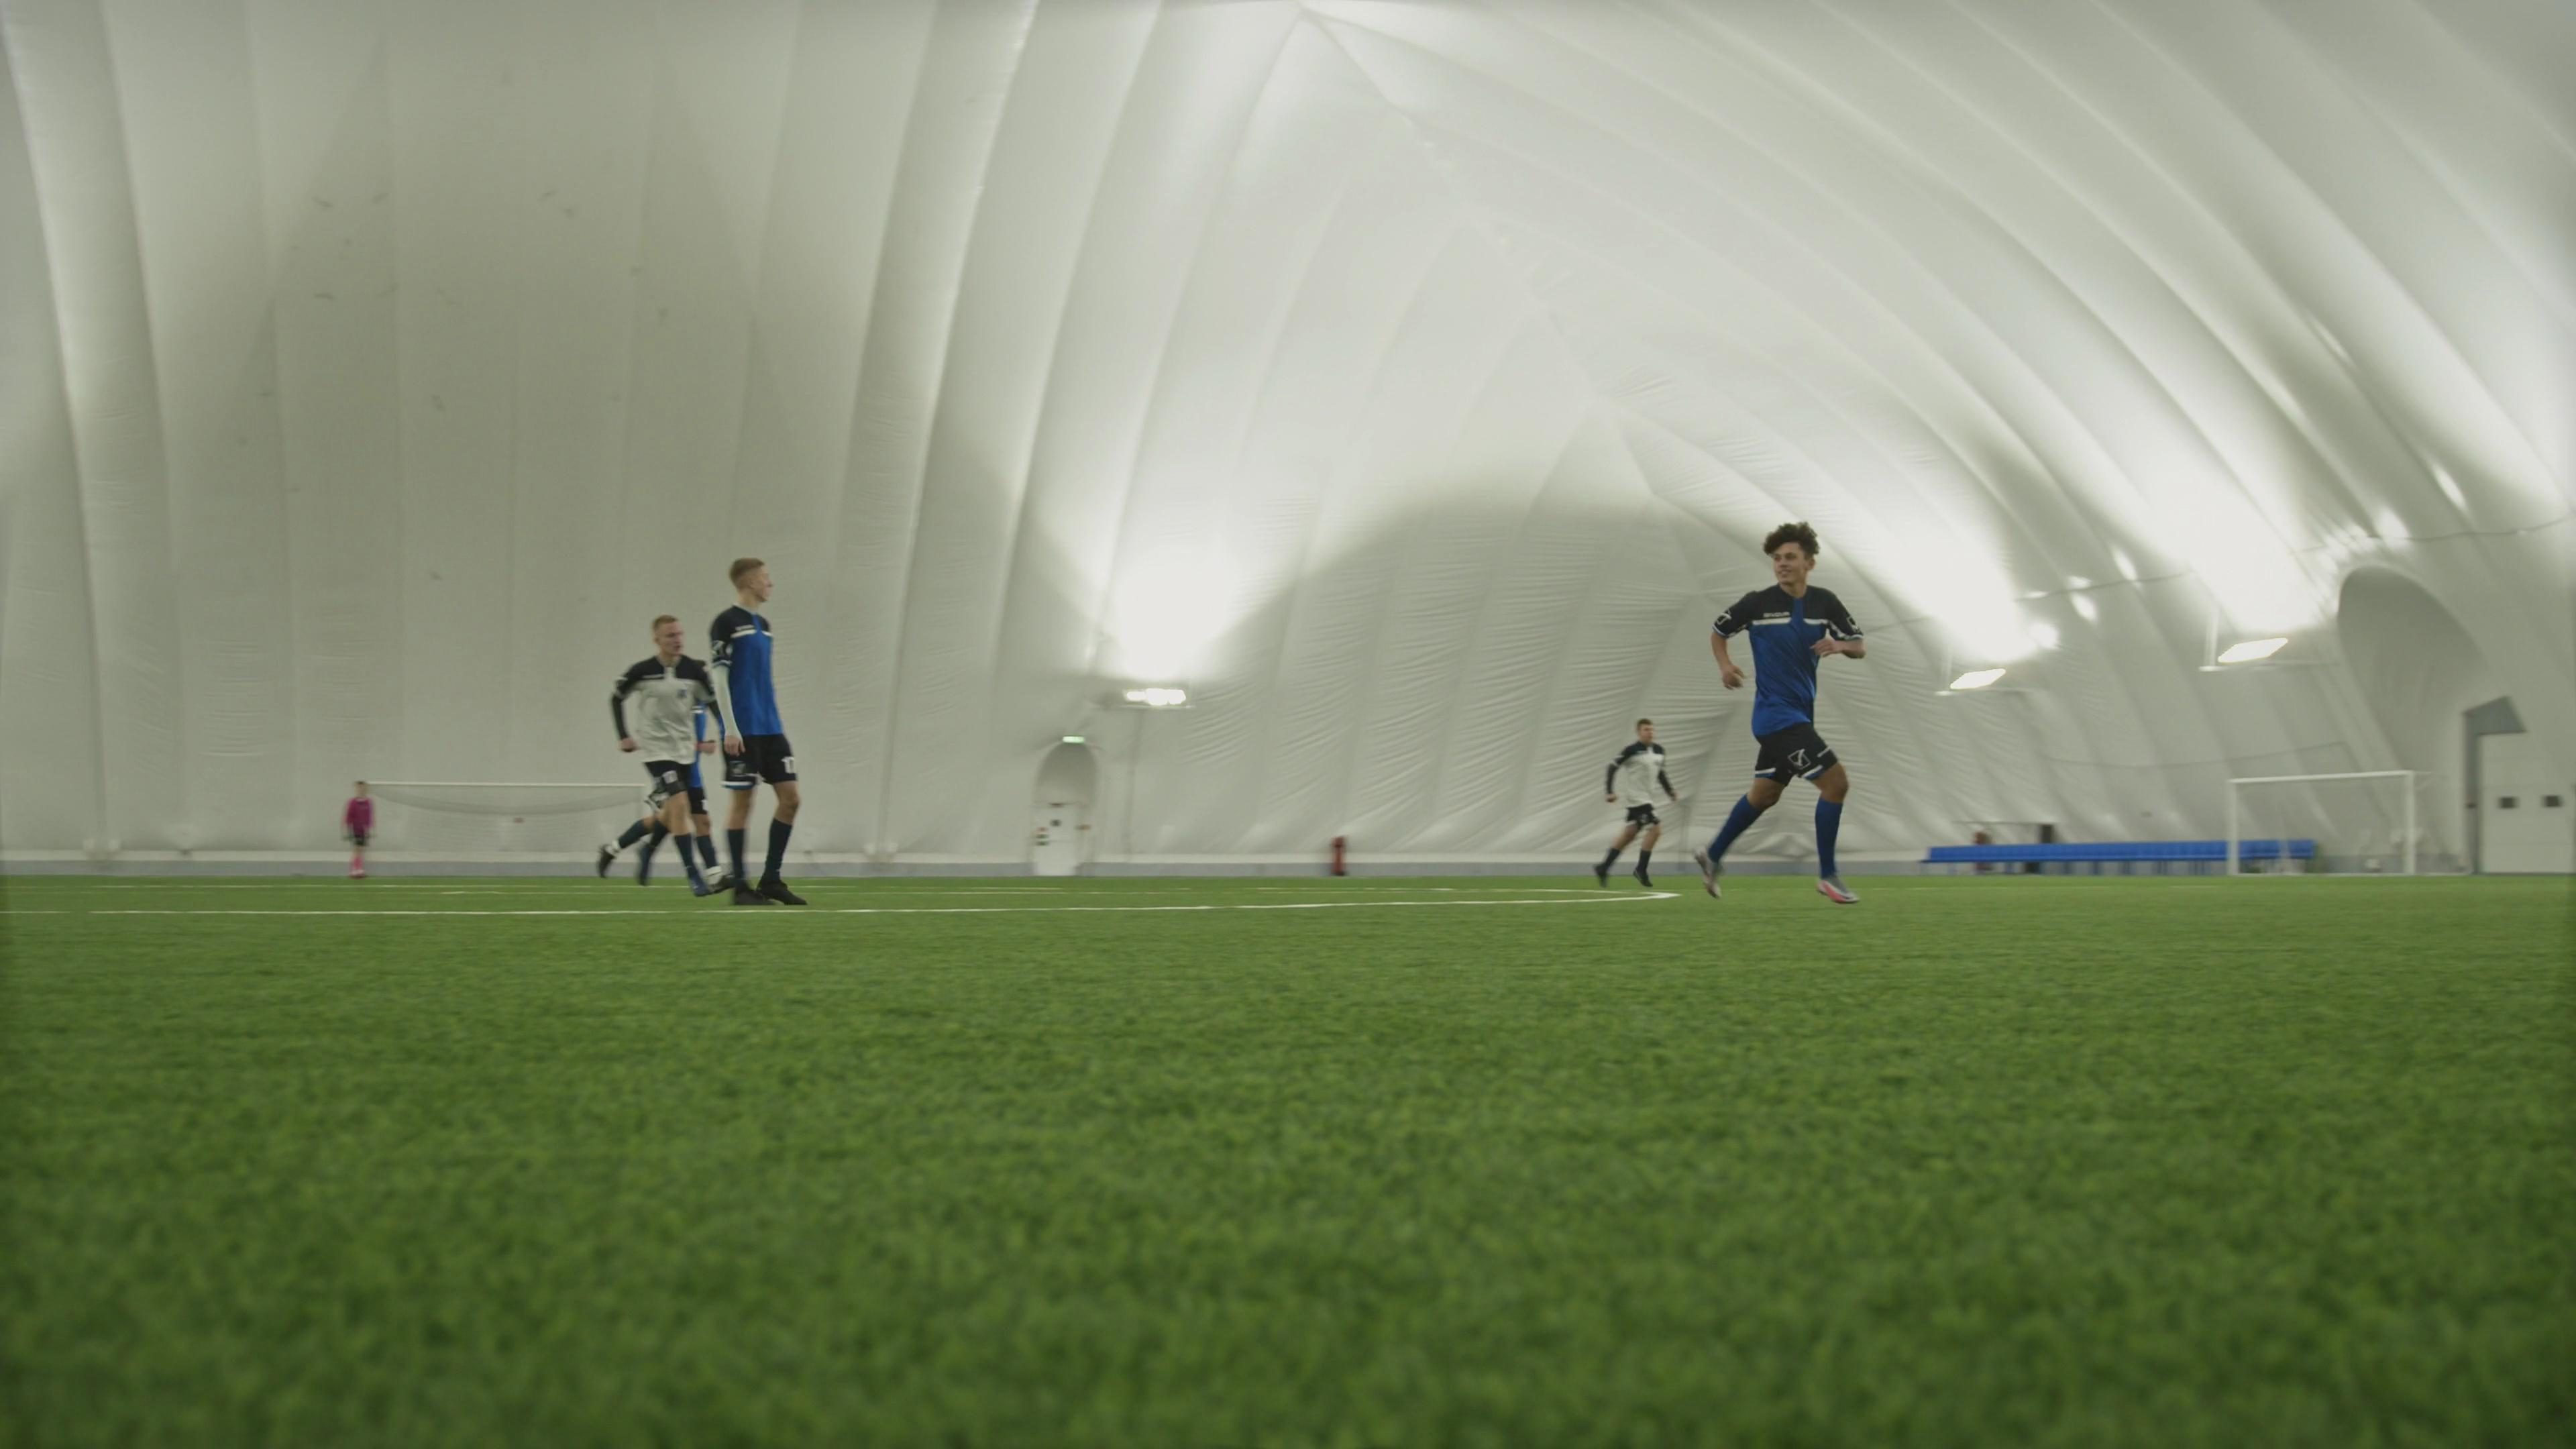other: (341, 777, 379, 879)
team1: (1698, 520, 1865, 908), (704, 554, 807, 906)
team2: (605, 609, 736, 890), (1592, 717, 1684, 890)
